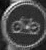bike lane: (2, 1, 42, 44)
